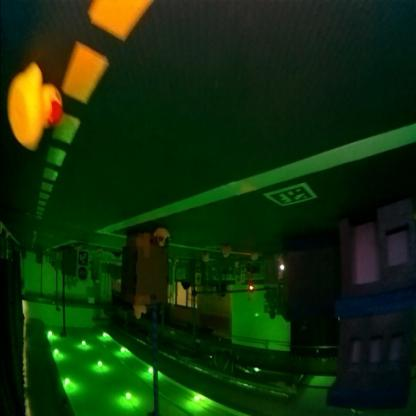Duckie: (8, 65, 63, 153), (155, 230, 171, 248), (133, 306, 147, 321), (222, 246, 232, 258), (251, 254, 260, 262), (204, 254, 210, 263)
QR code: (264, 184, 318, 208), (79, 250, 89, 266)
Stop sign: (77, 268, 89, 283)
